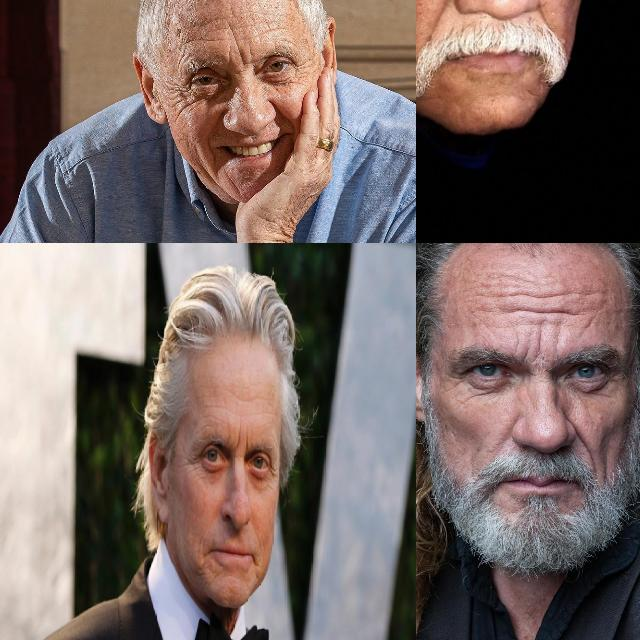chin: (226, 176, 244, 197), (198, 558, 210, 578)
crows_feet: (443, 367, 465, 391), (174, 82, 196, 104), (186, 445, 202, 471), (294, 62, 308, 86), (268, 460, 278, 485)
forehead: (511, 299, 584, 323), (510, 285, 574, 309), (259, 18, 285, 36), (181, 34, 213, 46), (197, 15, 220, 30), (208, 399, 230, 413), (234, 390, 252, 407), (206, 411, 223, 428), (226, 21, 240, 41)
frown_line: (532, 331, 552, 363), (515, 345, 535, 365), (236, 46, 250, 70), (232, 425, 242, 454), (244, 428, 250, 453)
gummy_smile: (565, 418, 597, 462), (428, 0, 454, 35), (270, 100, 294, 126)
sad_smile: (204, 139, 220, 165), (251, 551, 260, 572)
